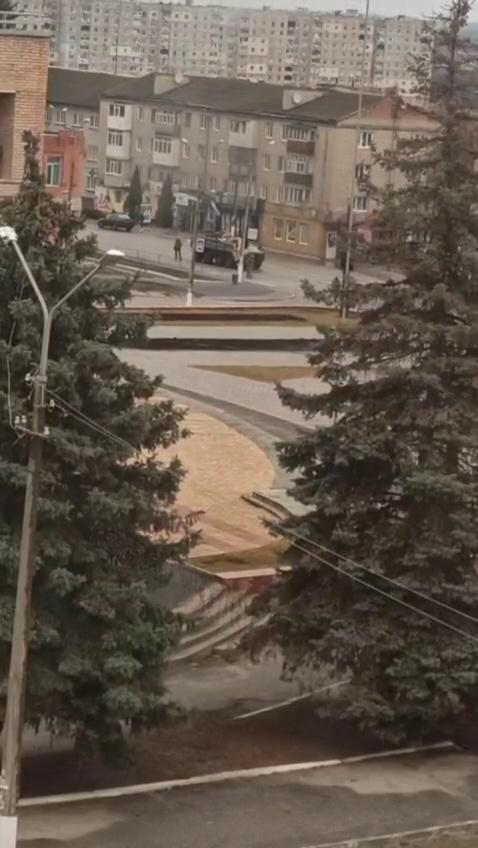car: (98, 212, 134, 232)
person: (173, 238, 183, 261)
tank: (192, 234, 266, 271)
